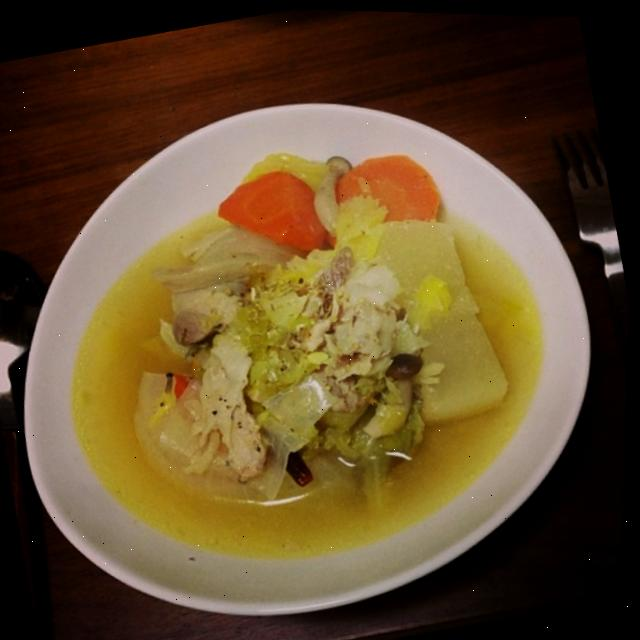汤锅炖物: (0, 35, 639, 640)
